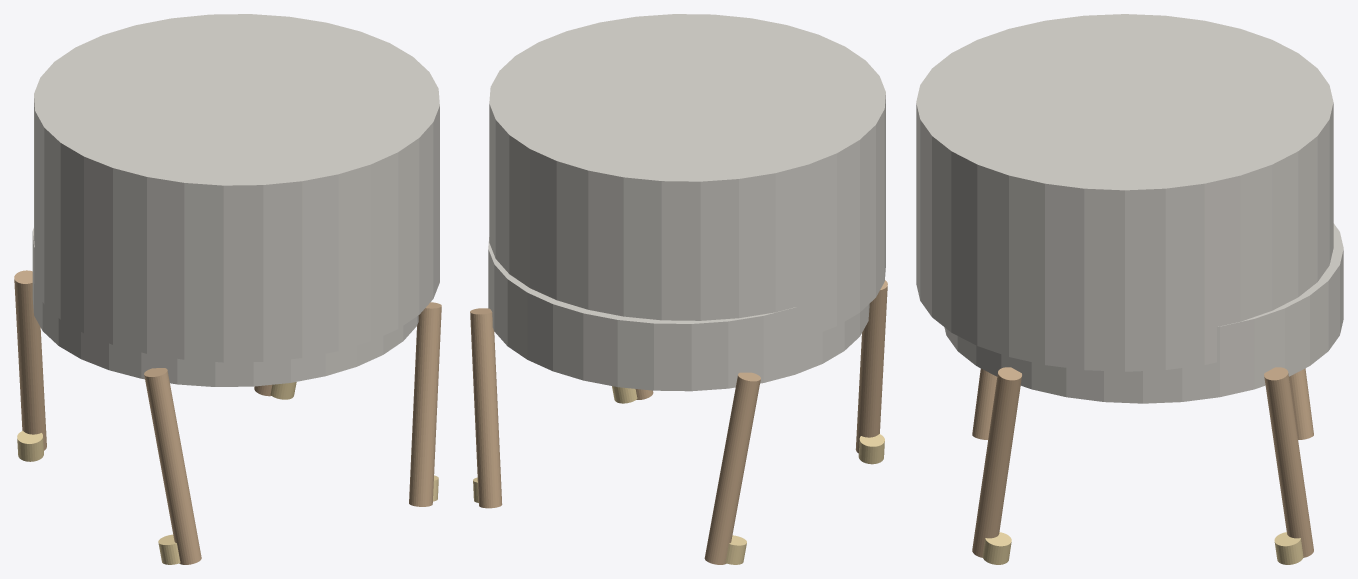
Rendered from custom_armchair.glb.
The picture shows the model from 3 angles, left to right: view 1: azimuth 30°, elevation 25°; view 2: azimuth 150°, elevation 25°; view 3: azimuth 270°, elevation 25°; orthographic projection. The views are drawn at different scales.
Parts seen in each view (by area): view 1: Cylinder.009, Cylinder.008, Cylinder.006, Cylinder.004, Cylinder, Cylinder.001; view 2: Cylinder.009, Cylinder.008, Cylinder.002, Cylinder, Cylinder.004, Cylinder.005; view 3: Cylinder.009, Cylinder.008, Cylinder.002, Cylinder.006, Cylinder.004, Cylinder, Cylinder.007, Cylinder.003.
Part boxes in pixels (x1,y1,x2,y2): Cylinder.009: [34, 14, 439, 362]; Cylinder.008: [32, 228, 418, 386]; Cylinder.006: [409, 302, 441, 506]; Cylinder.004: [144, 368, 201, 564]; Cylinder: [14, 270, 46, 450]; Cylinder.001: [17, 431, 43, 461]; Cylinder.009: [489, 14, 885, 339]; Cylinder.008: [488, 237, 869, 391]; Cylinder.002: [470, 308, 502, 508]; Cylinder: [704, 372, 760, 564]; Cylinder.004: [855, 280, 887, 453]; Cylinder.005: [858, 434, 884, 464]; Cylinder.009: [916, 14, 1333, 371]; Cylinder.008: [944, 223, 1343, 403]; Cylinder.002: [1264, 367, 1313, 557]; Cylinder.006: [972, 367, 1021, 557]; Cylinder.004: [972, 368, 997, 439]; Cylinder: [1289, 368, 1313, 439]; Cylinder.007: [982, 532, 1011, 564]; Cylinder.003: [1274, 532, 1303, 564].
Size of the model in its own units: 0.7505 by 0.7838 by 0.7688.
